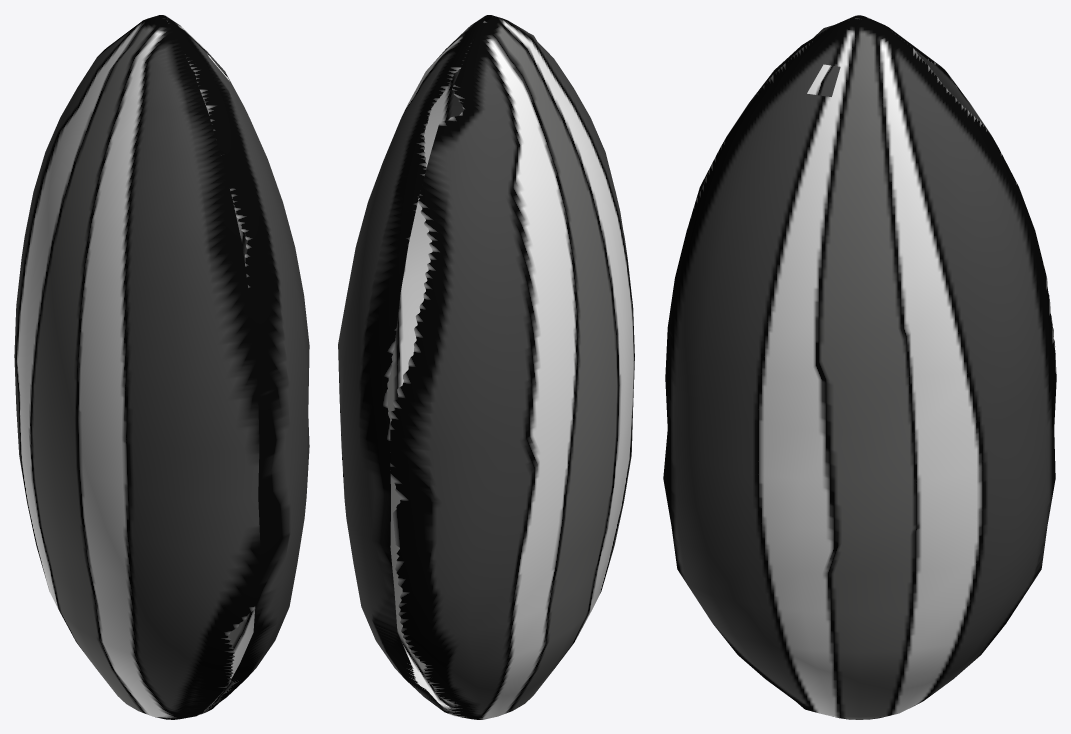
File: seed.fbx
The picture shows the model from 3 angles, left to right: view 1: azimuth 30°, elevation 25°; view 2: azimuth 150°, elevation 25°; view 3: azimuth 270°, elevation 25°; orthographic projection.
Parts seen in each view (by area): view 1: pSphere1; view 2: pSphere1; view 3: pSphere1.
Boxes of the visible parts, x1,y1,x2,y2 form: pSphere1: (14, 15, 309, 719); pSphere1: (338, 15, 634, 719); pSphere1: (663, 15, 1056, 719).
Bounding box in the file's own units: 0.7205 × 2.17 × 1.1.
Materials: 1 (1 with a texture image).
